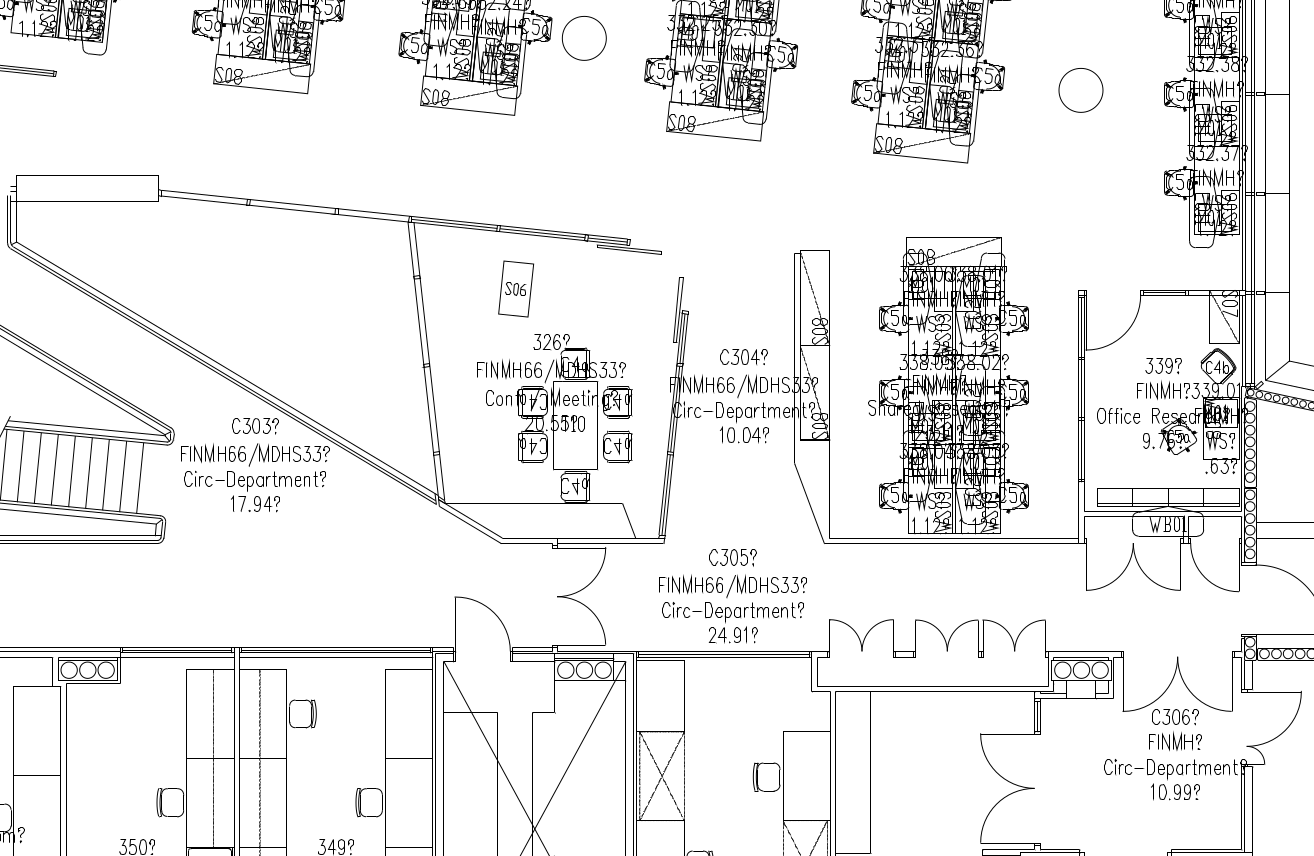door: (1118, 646, 1238, 719), (1079, 538, 1182, 605), (553, 545, 615, 648), (452, 582, 514, 664), (968, 725, 1046, 788), (1236, 682, 1314, 745), (1085, 290, 1148, 355), (825, 616, 898, 663), (908, 612, 981, 659), (979, 613, 1052, 660)
